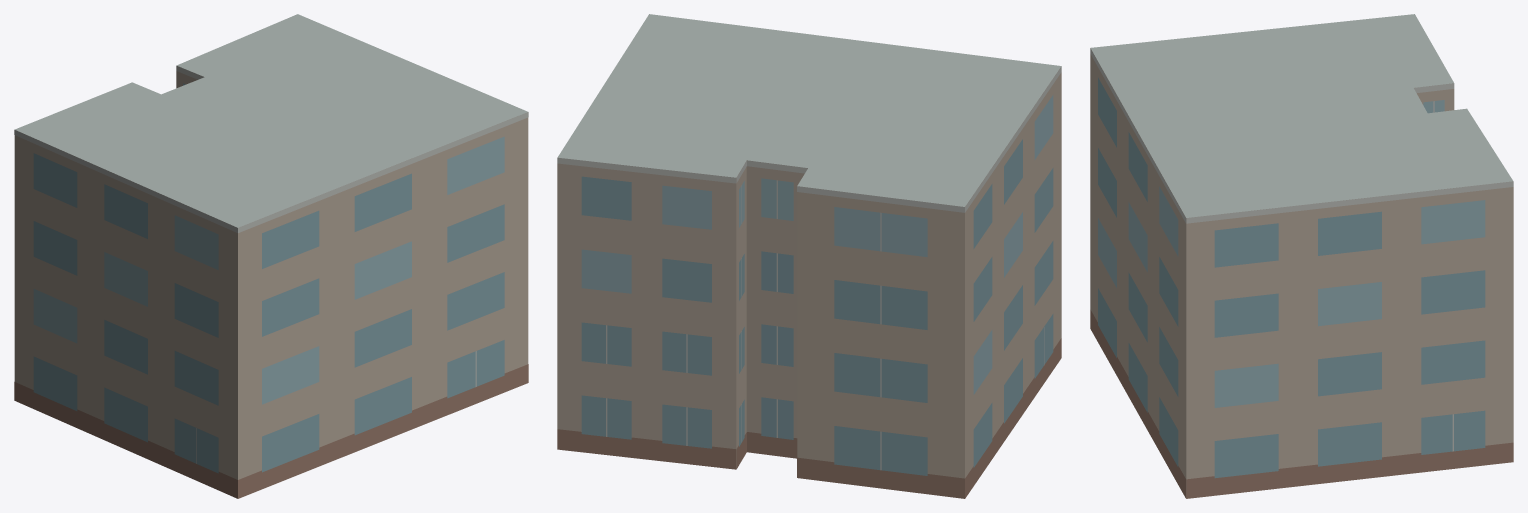
File: survey-upis-32812526.glb
The picture shows the model from 3 angles, left to right: view 1: azimuth 30°, elevation 25°; view 2: azimuth 150°, elevation 25°; view 3: azimuth 270°, elevation 25°; orthographic projection. The views are drawn at different scales.
Parts seen in each view (by area): view 1: survey-upis-32812526.tmp; view 2: survey-upis-32812526.tmp; view 3: survey-upis-32812526.tmp.
Boxes of the visible parts, <box> form: survey-upis-32812526.tmp: <box>14,14,528,498</box>; survey-upis-32812526.tmp: <box>557,14,1061,498</box>; survey-upis-32812526.tmp: <box>1090,14,1513,498</box>.
Bounding box in the file's own units: 19.02 × 12.2 × 16.67.
